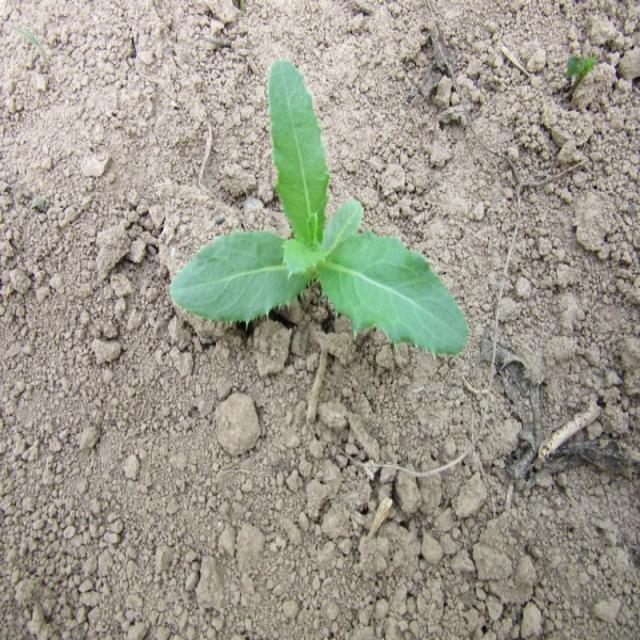field_thistle: (180, 76, 485, 402)
